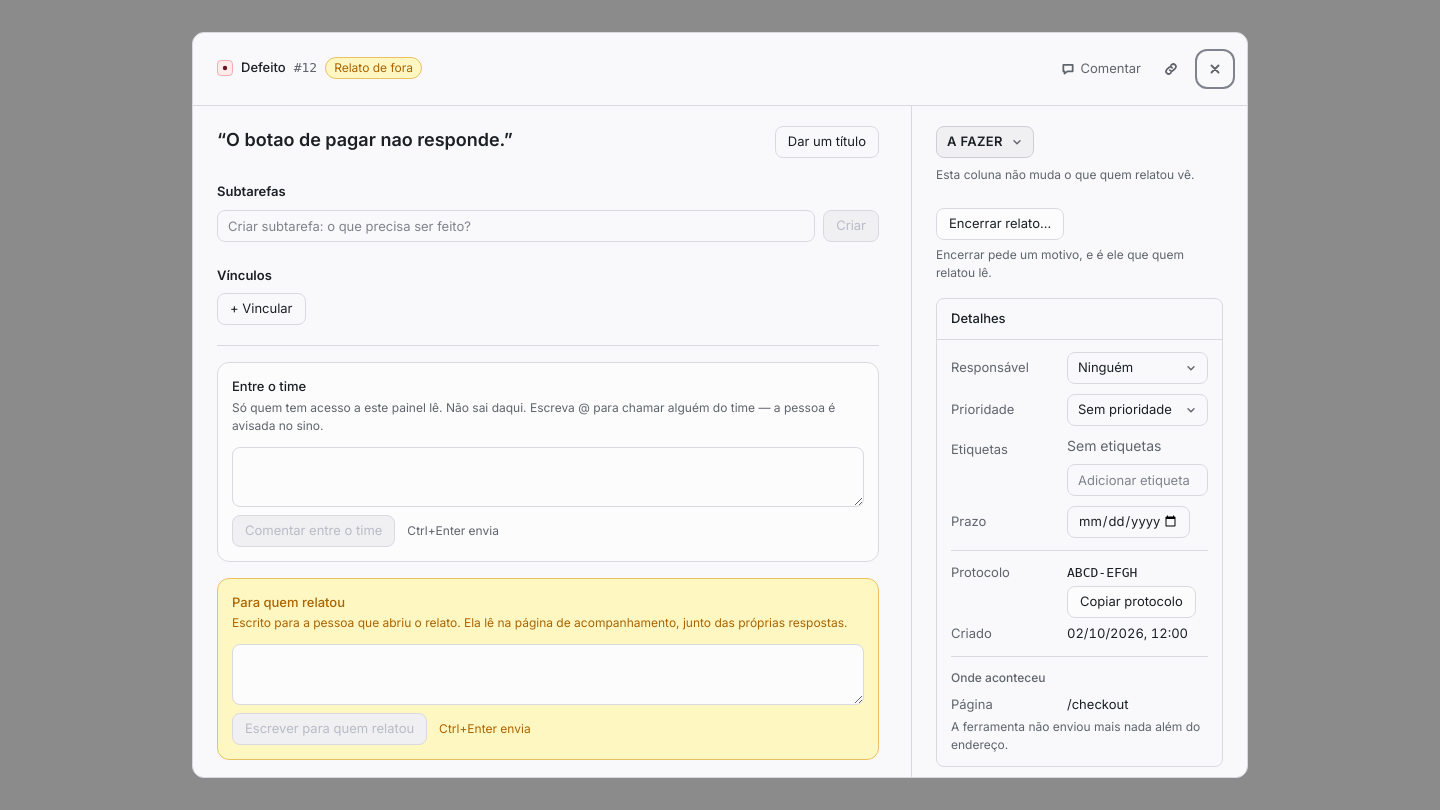
Test case: as saidas do relato aberto › sem coluna que encerra, "Encerrar relato…" encerra sem mover
Click the button "Encerrar relato…": coordinates (1000, 224) [936,208,1064,240]
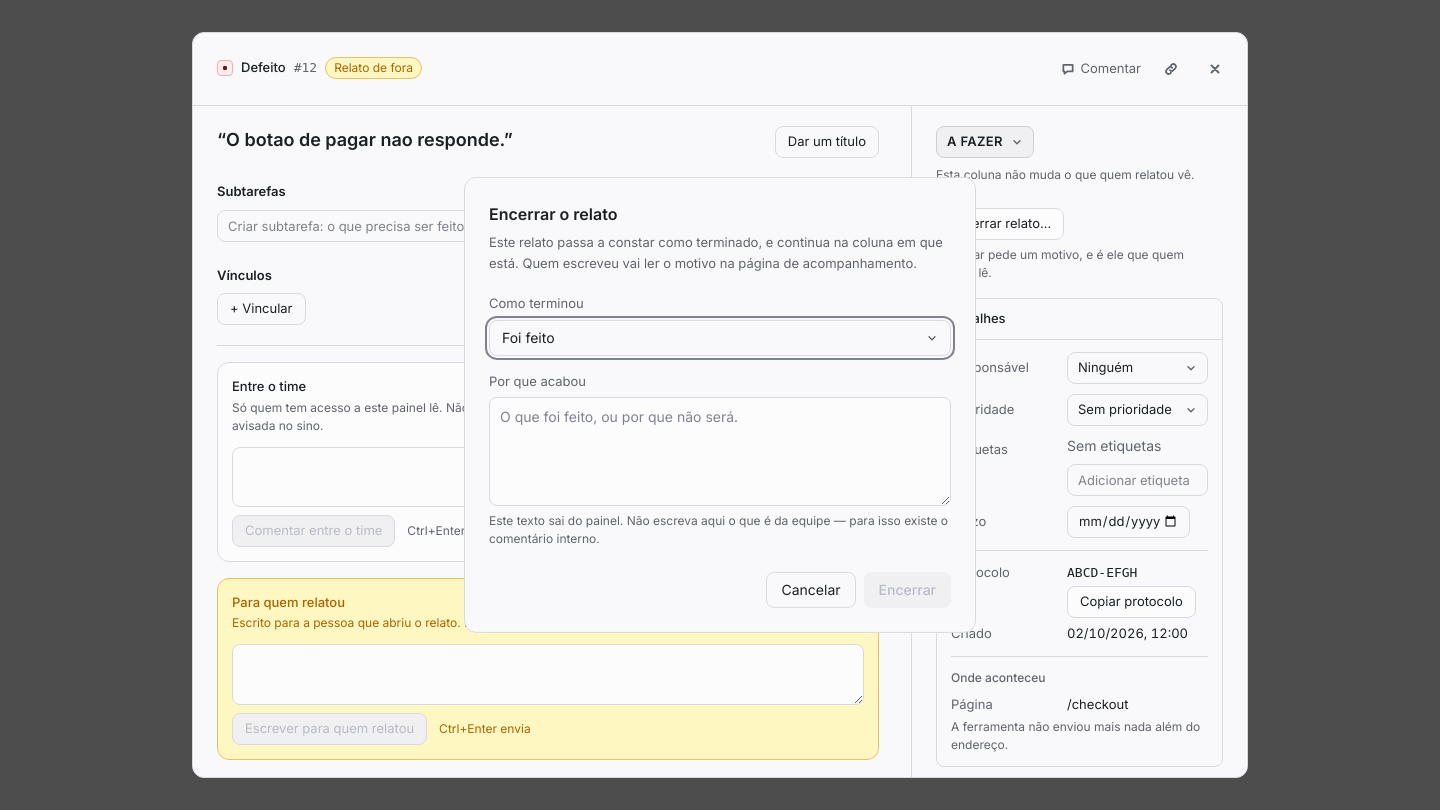
Expected: the text "continua na coluna em que está" is shown, [489,234,943,271]
In the text box labelled "Por que acabou": coordinates (720, 452) [489,397,951,506], type "Trocamos o gateway."
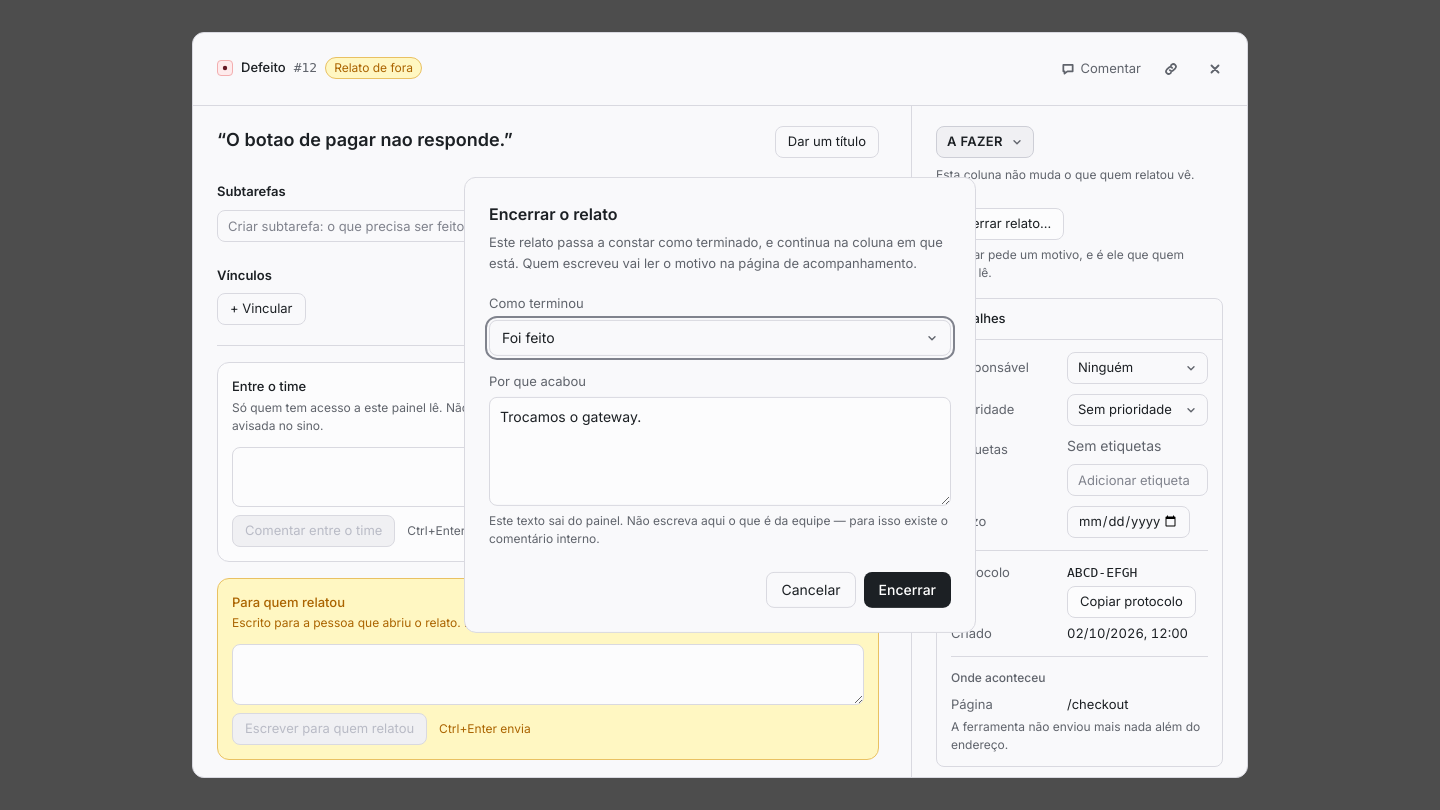
Click the button "Encerrar": coordinates (907, 590) [864,572,951,608]
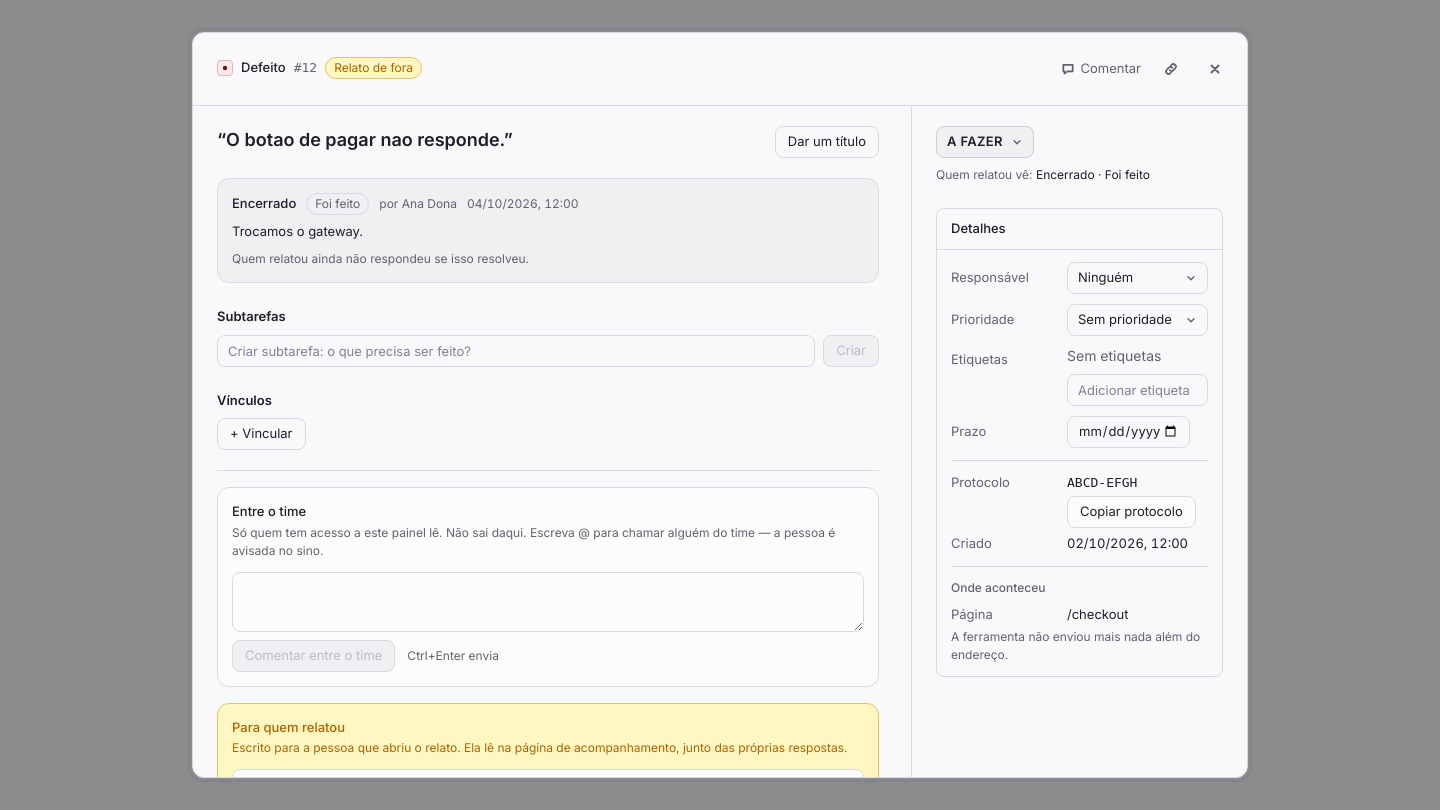
Expected: the text "por Ana Dona" is shown, [379,195,457,213]
